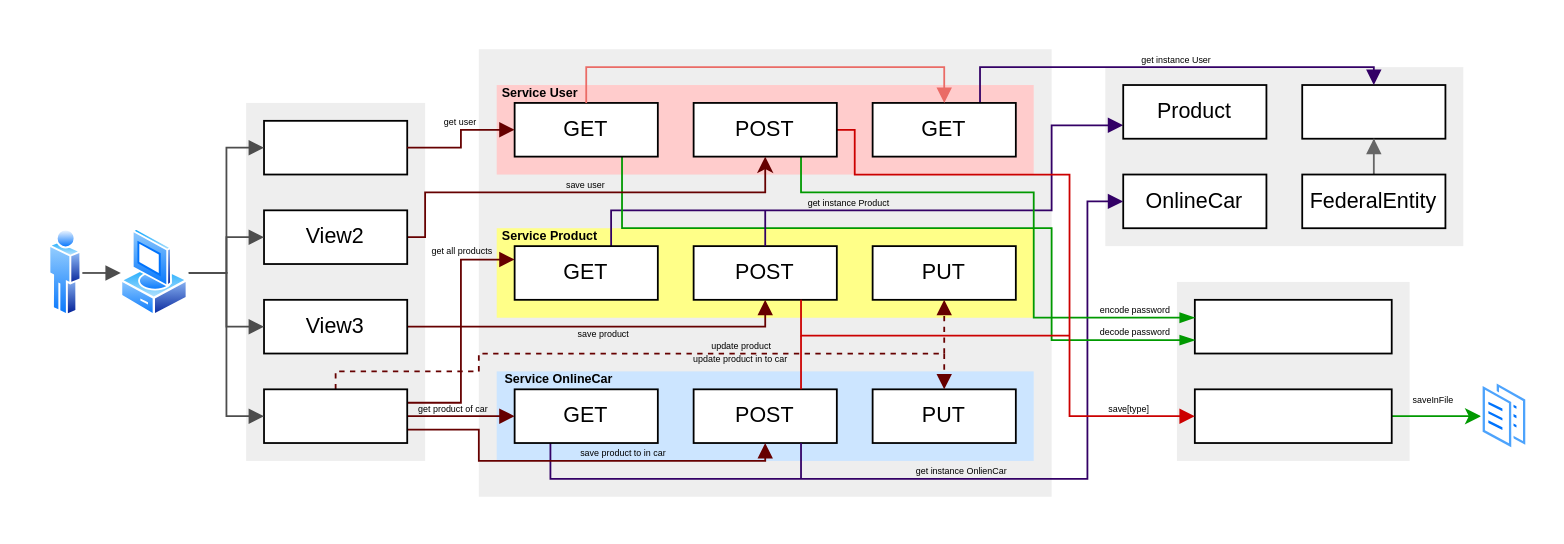
Some shapes in this 1564 by 544 pixel diagram are drawn without their labels. The centre of each missing label's shape, as x and y in pixels:
ECommerceUtil: pixel 1292 326
FileECommerceUtil: pixel 1292 415
User: pixel 1372 111
View1: pixel 334 147
View4: pixel 334 415
